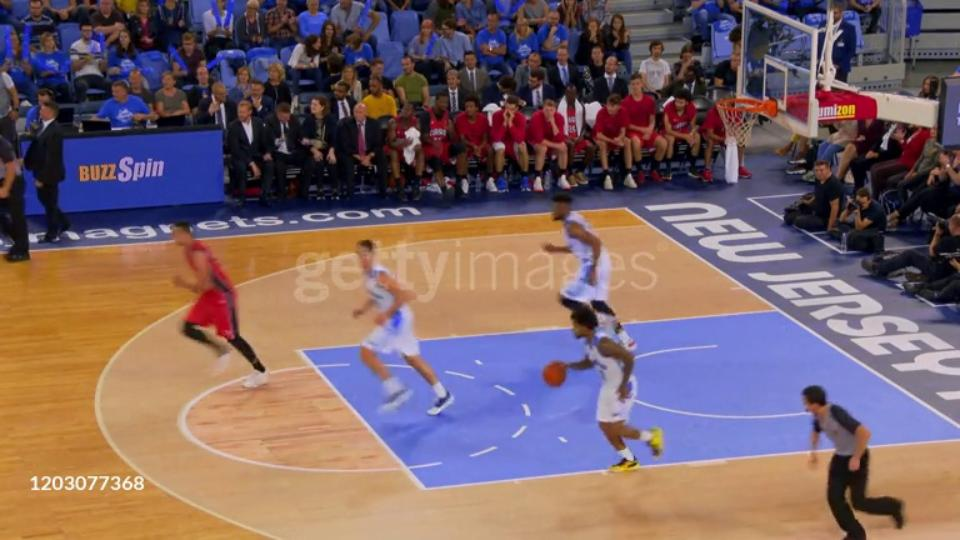hoop: (712, 92, 776, 121)
